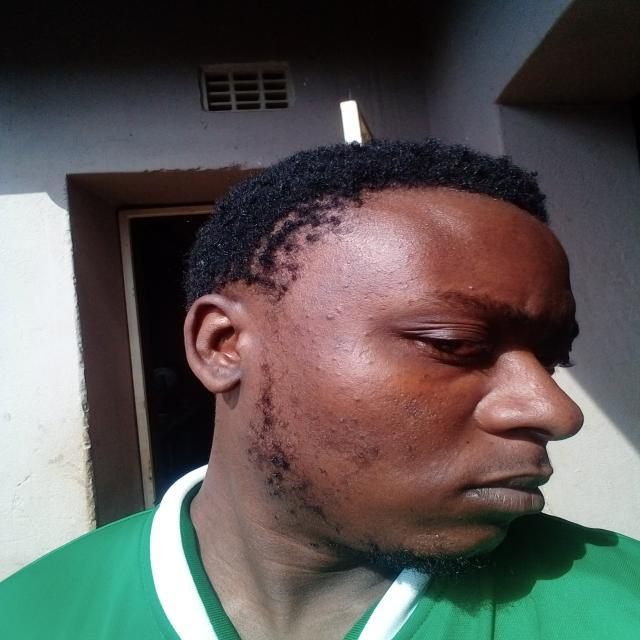acne: (350, 395, 364, 405), (314, 349, 326, 359), (362, 358, 374, 368), (350, 415, 362, 425), (324, 313, 336, 321), (310, 336, 322, 344), (303, 312, 313, 320), (314, 365, 324, 373), (395, 278, 405, 286), (328, 356, 339, 362), (342, 282, 350, 290), (345, 258, 353, 266), (362, 330, 370, 337), (366, 314, 375, 320), (402, 254, 411, 260), (305, 328, 315, 333), (466, 286, 478, 290), (336, 306, 344, 312), (290, 330, 298, 336), (338, 416, 344, 422)
pores: (390, 392, 448, 460)
